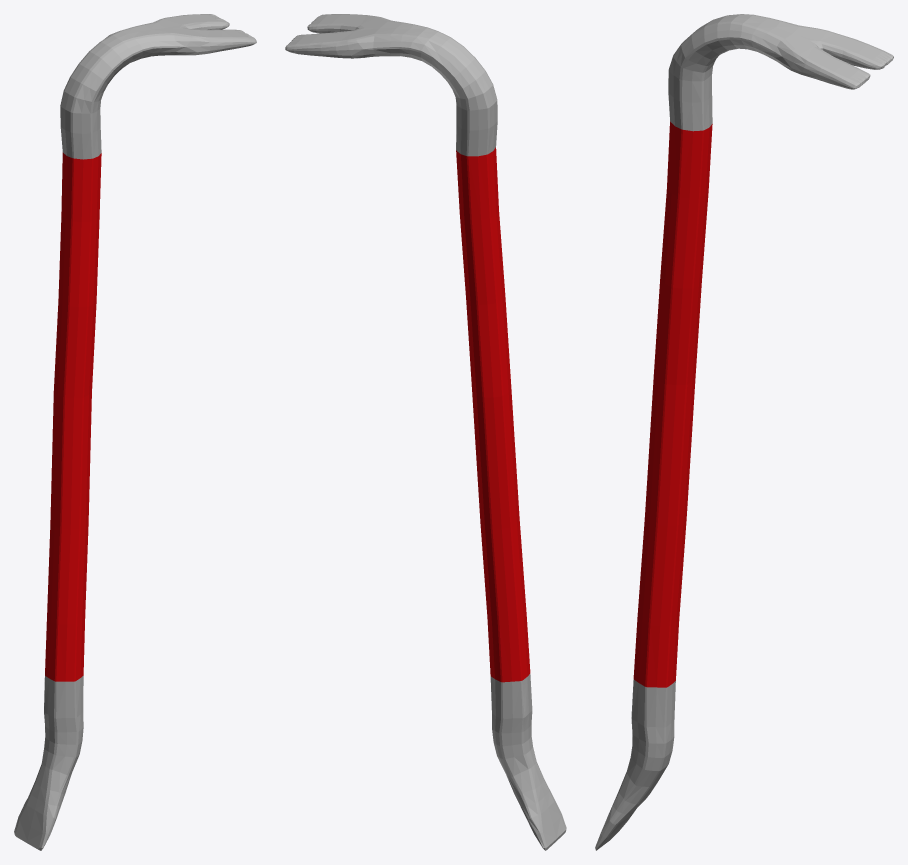
The model's file is Crowbar.fbx.
3 views of the same model, side by side, from view 1: azimuth 30°, elevation 25°; view 2: azimuth 150°, elevation 25°; view 3: azimuth 330°, elevation 25° (orthographic). The views are drawn at different scales.
Visible parts, largest first — view 1: knifecur; view 2: knifecur; view 3: knifecur.
Part boxes in pixels (<box>): knifecur: <box>14,14,256,850</box>; knifecur: <box>285,14,566,850</box>; knifecur: <box>595,14,893,850</box>.
Size of the model in its own units: 19.16 by 60.99 by 7.45.
